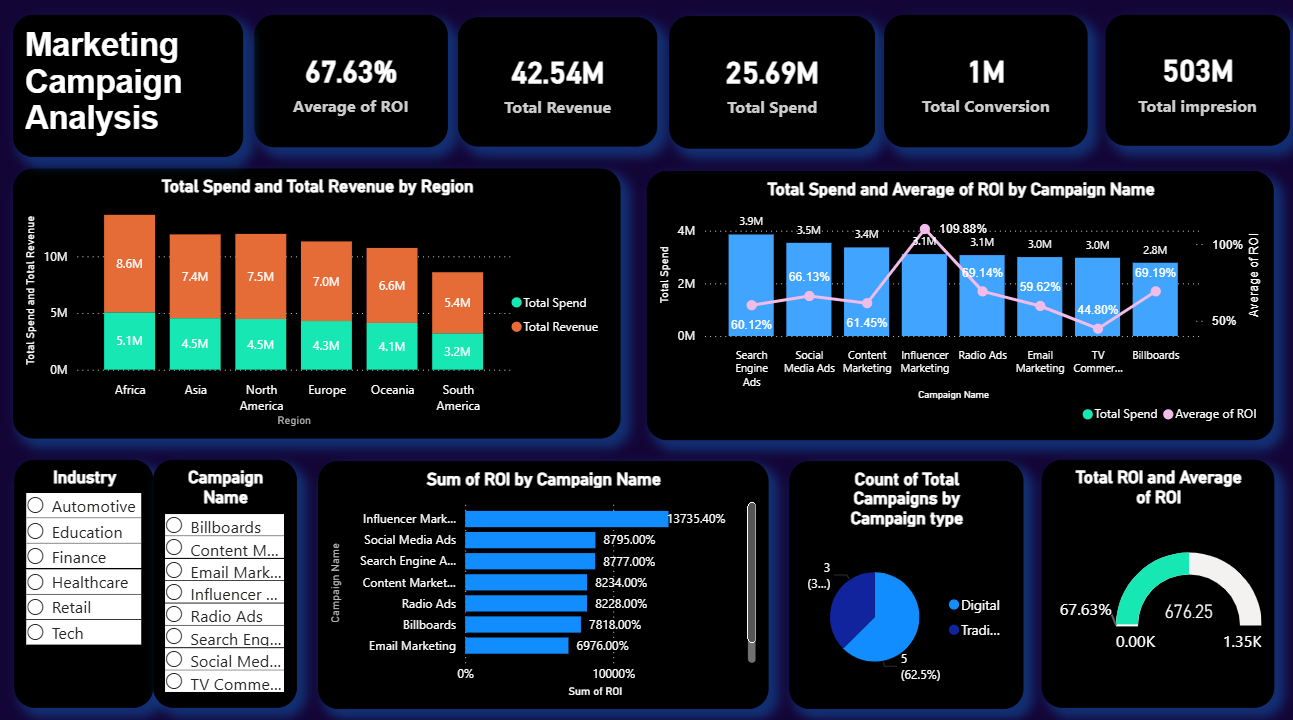

This screenshot's page, from the dashboard's own definition file:
{"tool":"powerbi","page":{"name":"Marketing Campaign Analysis","canvas":[1280,720],"ordinal":0},"visuals":[{"type":"columnChart","fields":{"Category":["region performance.Region"],"Y":["marketing campaign performance.Total Spend","marketing campaign performance.Total Revenue"]},"box":[14.8,169.7,597.8,265.7],"z":0},{"type":"lineClusteredColumnComboChart","fields":{"Category":["marketing campaign details.Campaign Name"],"Y":["marketing campaign performance.Total Spend"],"Y2":["Avg(marketing campaign performance.ROI)"]},"box":[638.5,171.6,616.7,264.7],"z":1000},{"type":"pieChart","fields":{"Category":["marketing campaign details.Campaign type"],"Y":["CountNonNull(marketing campaign details.Total Campaigns)"]},"box":[778.6,457.1,230,244.3],"z":2000},{"type":"gauge","fields":{"TargetValue":["Avg(marketing campaign performance.ROI)"],"Y":["marketing campaign details.Total ROI"]},"box":[1027.1,455.7,228.6,244.3],"z":3000},{"type":"card","fields":{"Values":["Avg(marketing campaign performance.ROI)"]},"box":[252.5,18.8,190,130],"z":4000},{"type":"card","fields":{"Values":["marketing campaign performance.Total Revenue"]},"box":[452.5,21.2,196.2,127.5],"z":5000},{"type":"card","fields":{"Values":["marketing campaign performance.Total Spend"]},"box":[660,20,202.5,130],"z":6000},{"type":"barChart","fields":{"Y":["Sum(marketing campaign performance.ROI)"],"Category":["marketing campaign details.Campaign Name"]},"box":[314.3,457.1,442.9,244.3],"z":7000},{"type":"card","fields":{"Values":["marketing campaign performance.Total impresion"]},"box":[1090,18.8,181.2,128.8],"z":8000},{"type":"card","fields":{"Values":["marketing campaign performance.Total Conversion"]},"box":[871.2,18.8,200,130],"z":9000},{"type":"textbox","box":[15,18.8,226.2,140],"z":10000},{"type":"listSlicer","fields":{"Values":["marketing campaign performance.Industry"]},"box":[15.7,455.7,137.1,244.3],"z":11000},{"type":"listSlicer","fields":{"Values":["marketing campaign details.Campaign Name"]},"box":[152.9,455.7,141.4,244.3],"z":12000}]}

Visuals, with their boxes in screenshot pixels (x1, y1, x2, y2), scaled from the page's 1280x720 canvas onto the 1293x720 screenshot:
columnChart - region performance.Region x marketing campaign performance.Total Spend: 15,170,619,435
lineClusteredColumnComboChart - marketing campaign details.Campaign Name x marketing campaign performance.Total Spend: 645,172,1268,436
pieChart - marketing campaign details.Campaign type x CountNonNull(marketing campaign details.Total Campaigns): 787,457,1019,701
gauge - Avg(marketing campaign performance.ROI) x marketing campaign details.Total ROI: 1038,456,1268,700
card - Avg(marketing campaign performance.ROI): 255,19,447,149
card - marketing campaign performance.Total Revenue: 457,21,655,149
card - marketing campaign performance.Total Spend: 667,20,871,150
barChart - Sum(marketing campaign performance.ROI) x marketing campaign details.Campaign Name: 317,457,765,701
card - marketing campaign performance.Total impresion: 1101,19,1284,148
card - marketing campaign performance.Total Conversion: 880,19,1082,149
textbox: 15,19,244,159
listSlicer - marketing campaign performance.Industry: 16,456,154,700
listSlicer - marketing campaign details.Campaign Name: 154,456,297,700
